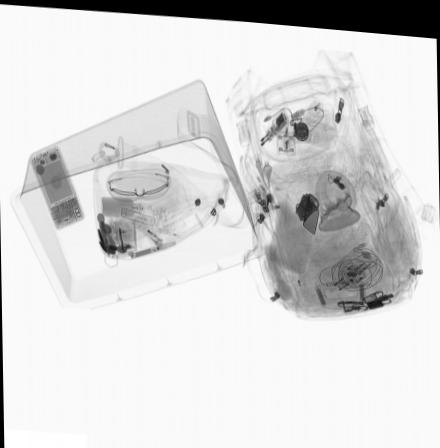Lighter: (131, 215, 164, 246)
